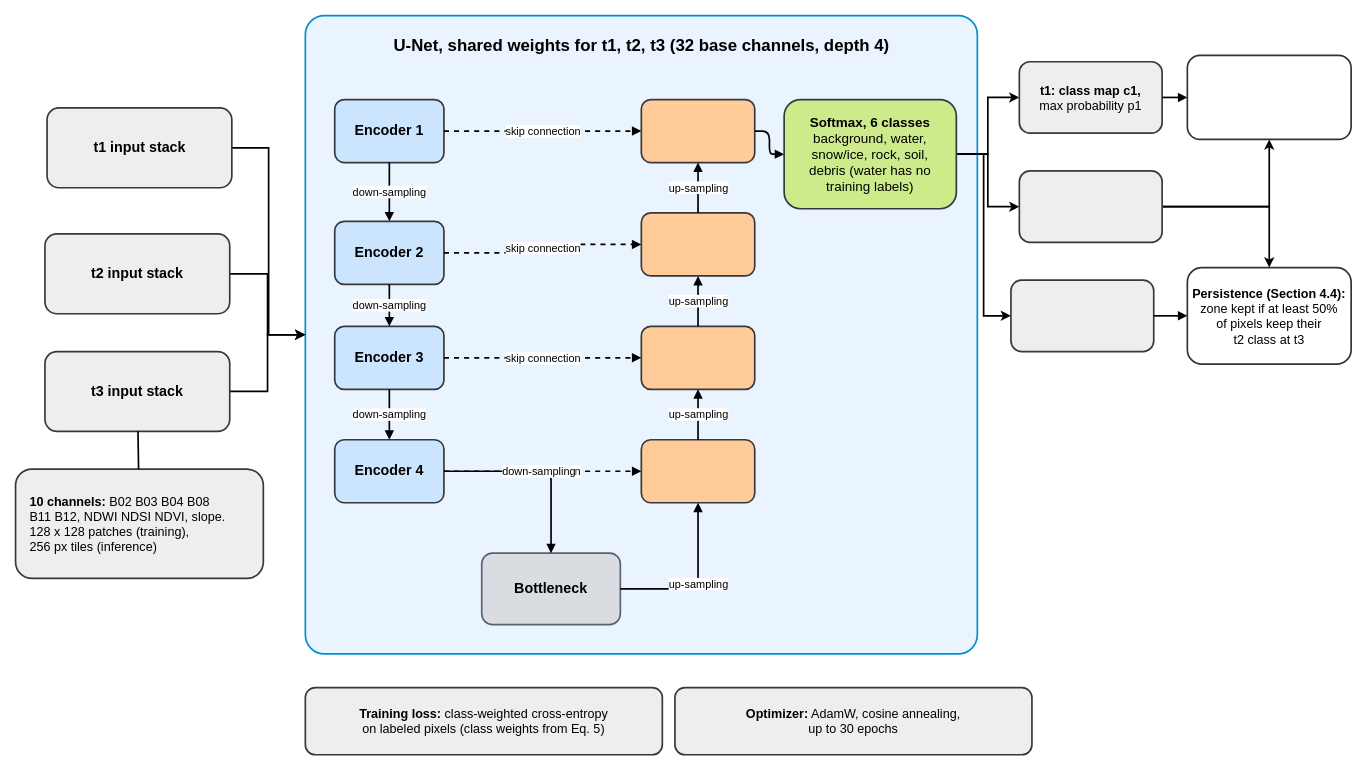
Image size: 1366x769. Some labels were removed from this diagram. Here are the shapes that lost their labels. From the top down, the centre of each, then its label:
At point (1269, 97): "Change rule (Eq. 6): c1 differs from c2 and min(p1, p2) >= 0.6".
At point (697, 130): "Decoder 1".
At point (1090, 206): "t2: class map c2, max probability p2".
At point (697, 244): "Decoder 2".
At point (1082, 315): "t3: class map c3, max probability p3".
At point (697, 357): "Decoder 3".
At point (697, 470): "Decoder 4".
